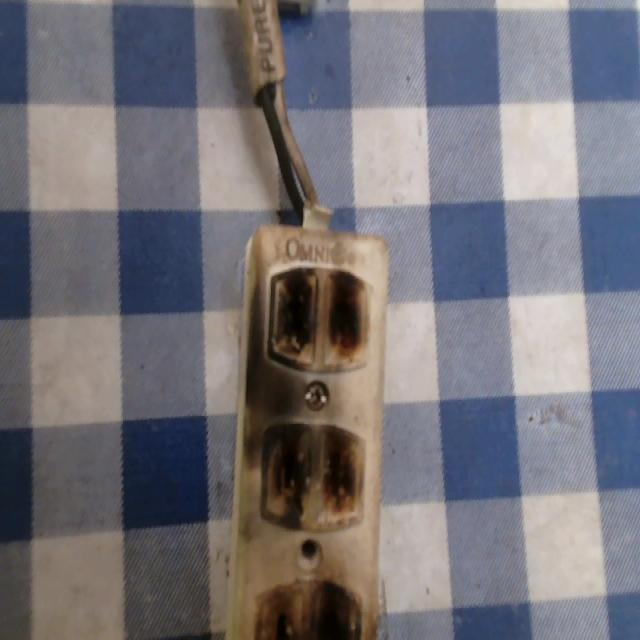-: (254, 258, 380, 370), (263, 418, 373, 530), (249, 574, 375, 638)
